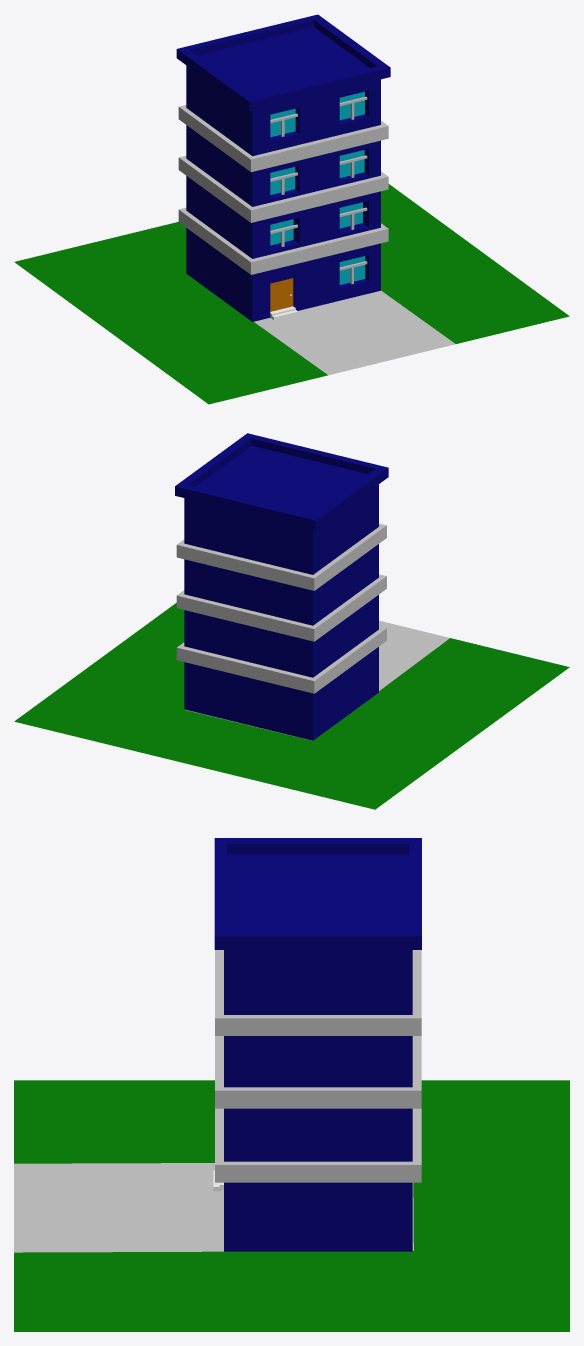
Rendered from house-blue.obj.
3 renders of one model, top to bottom at view 1: azimuth 30°, elevation 25°; view 2: azimuth 150°, elevation 25°; view 3: azimuth 270°, elevation 25°, orthographic. The views are drawn at different scales.
Parts seen in each view (by area): view 1: Cube.534_Cube.525, Plane.105, Cube.533_Cube.524, Plane.106, Cube.531_Cube.522, Cube.529_Cube.520, Cube.532_Cube.523; view 2: Cube.534_Cube.525, Plane.105, Cube.533_Cube.524, Plane.106; view 3: Plane.105, Cube.534_Cube.525, Plane.106, Cube.533_Cube.524.
Part boxes in pixels (bbox=[...]): Cube.534_Cube.525: bbox=[176, 14, 390, 321]; Plane.105: bbox=[14, 184, 569, 404]; Cube.533_Cube.524: bbox=[178, 105, 388, 274]; Plane.106: bbox=[254, 290, 455, 375]; Cube.531_Cube.522: bbox=[270, 91, 365, 284]; Cube.529_Cube.520: bbox=[270, 96, 367, 246]; Cube.532_Cube.523: bbox=[270, 278, 293, 311]; Cube.534_Cube.525: bbox=[175, 433, 388, 740]; Plane.105: bbox=[14, 603, 569, 809]; Cube.533_Cube.524: bbox=[176, 523, 386, 693]; Plane.106: bbox=[185, 620, 449, 740]; Plane.105: bbox=[14, 1080, 569, 1331]; Cube.534_Cube.525: bbox=[214, 838, 421, 1251]; Plane.106: bbox=[14, 1163, 413, 1252]; Cube.533_Cube.524: bbox=[215, 950, 421, 1182].
Size of the model in its own units: 23.65 by 14.03 by 22.09.
